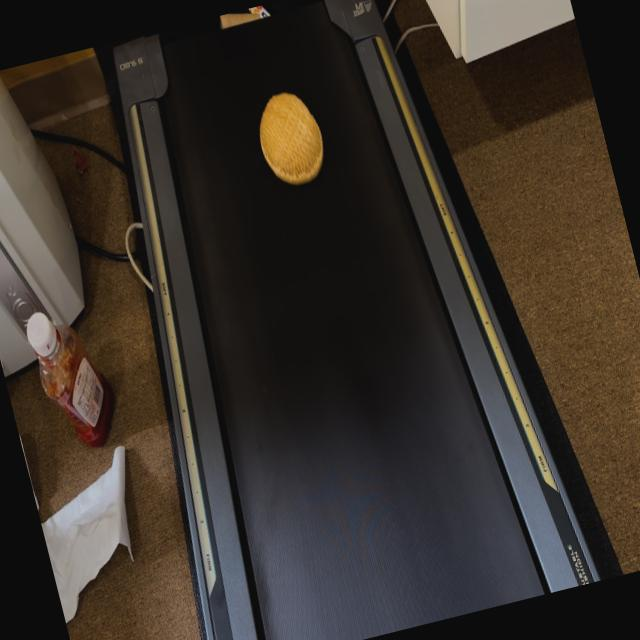Trash: (244, 68, 357, 206), (213, 0, 294, 46)
